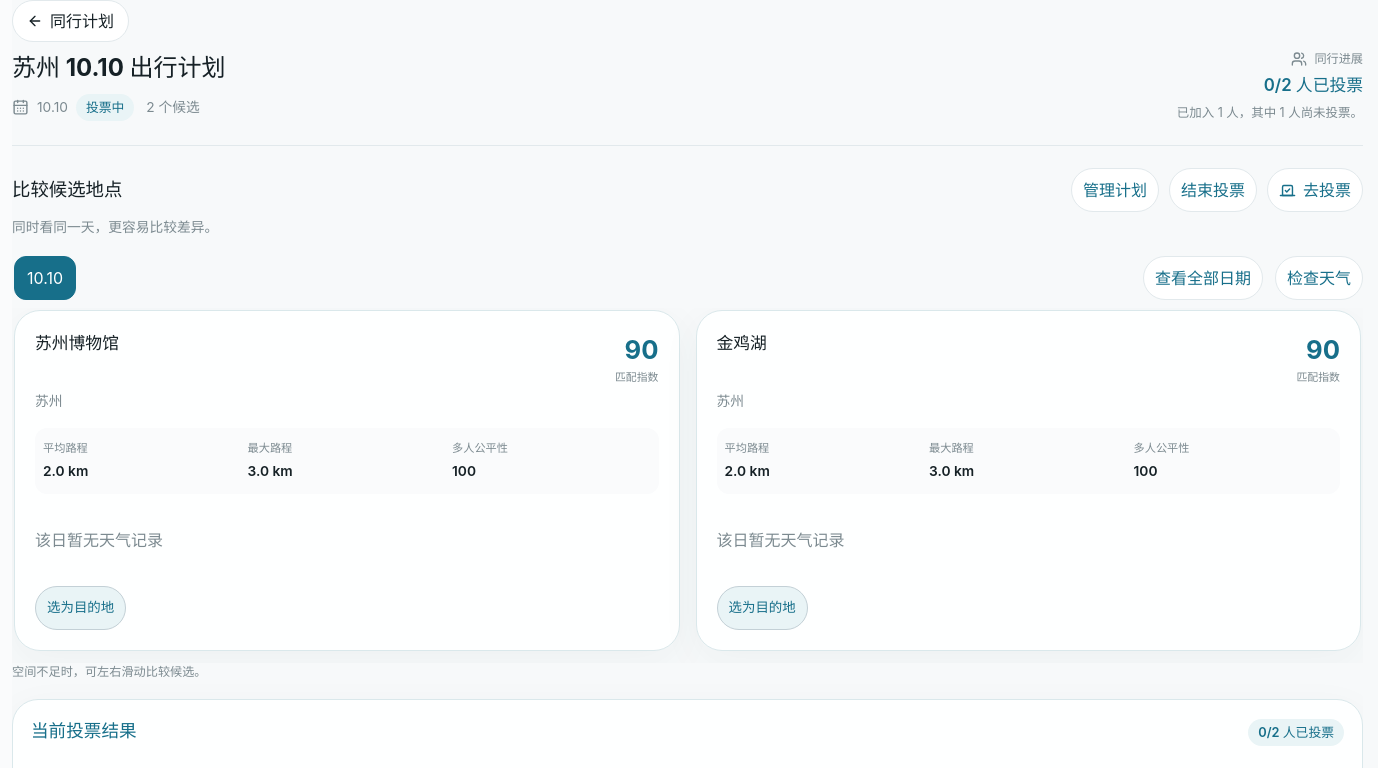
Test: plan management stays closed until requested and expands editing on request
Expected: the heading "苏州 10.10 出行计划" is shown, [12,53,226,82]
Expected: the number of headings "比较候选地点" is 1, [12,178,122,200]
Click the button "管理计划".
click(1115, 190)  # box [1071,168,1159,212]
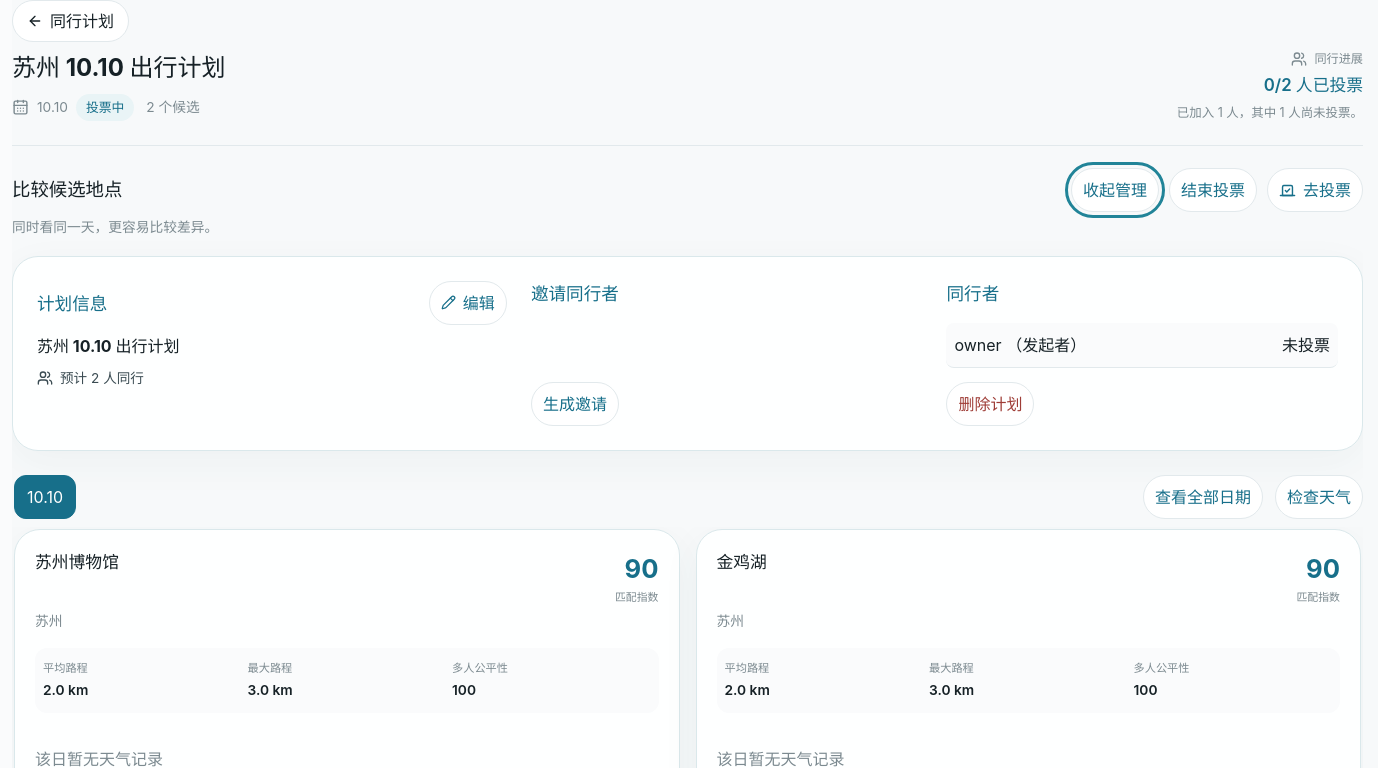
Click the button with aria-label "编辑计划信息".
click(468, 303)  # box [429,281,507,325]
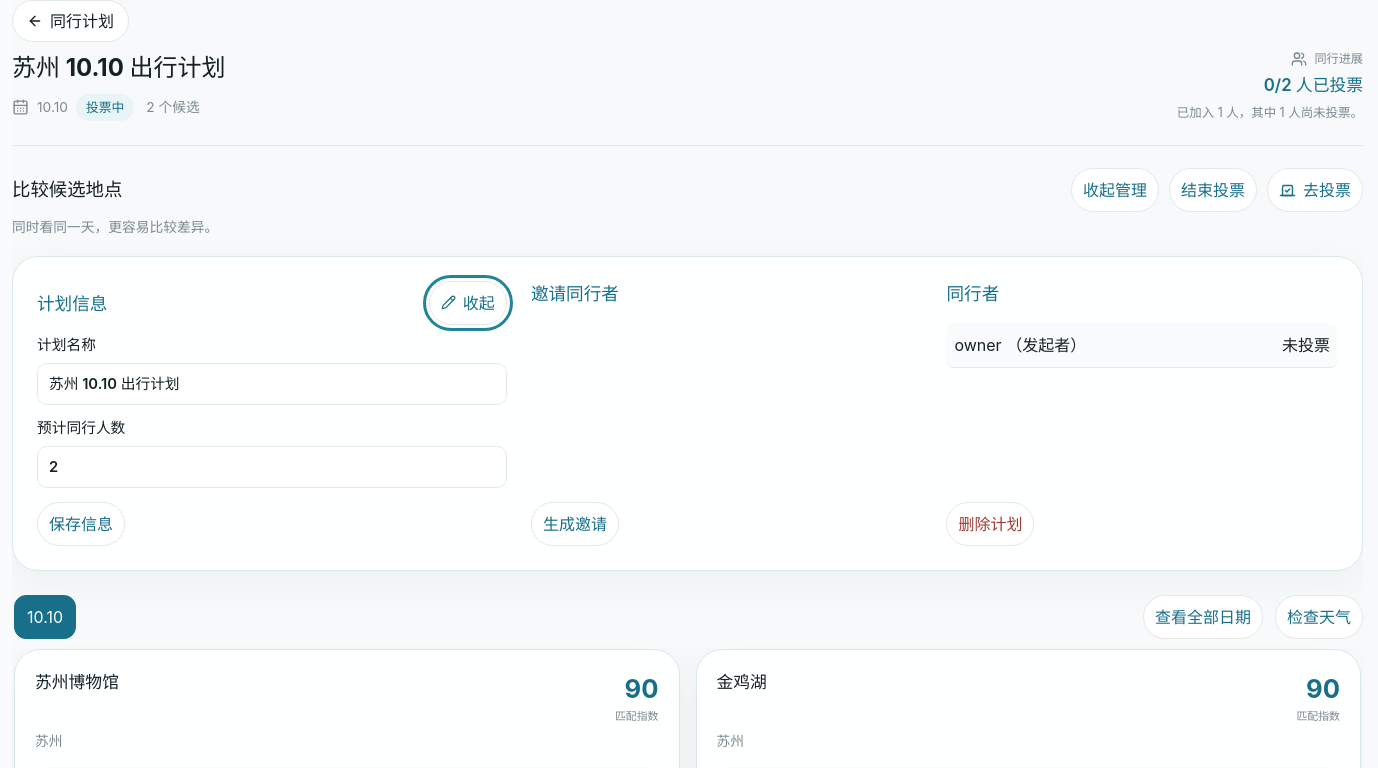
Result: the field labelled "计划名称" holds "苏州 10.10 出行计划" at [37,363,507,405]
Result: the number field labelled "预计同行人数" holds "2" at [37,446,507,488]
